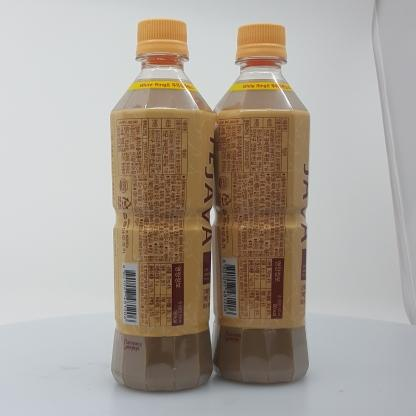-------------500ML: (111, 19, 216, 391), (211, 24, 310, 383)
